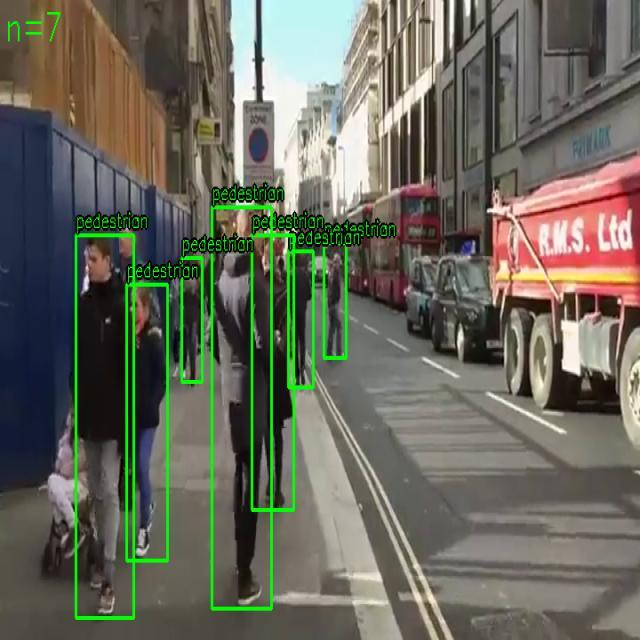with scooter: (212, 206, 272, 610), (76, 234, 134, 618), (126, 284, 168, 562), (252, 234, 294, 510), (288, 250, 314, 388), (181, 257, 203, 383), (324, 242, 346, 358)
